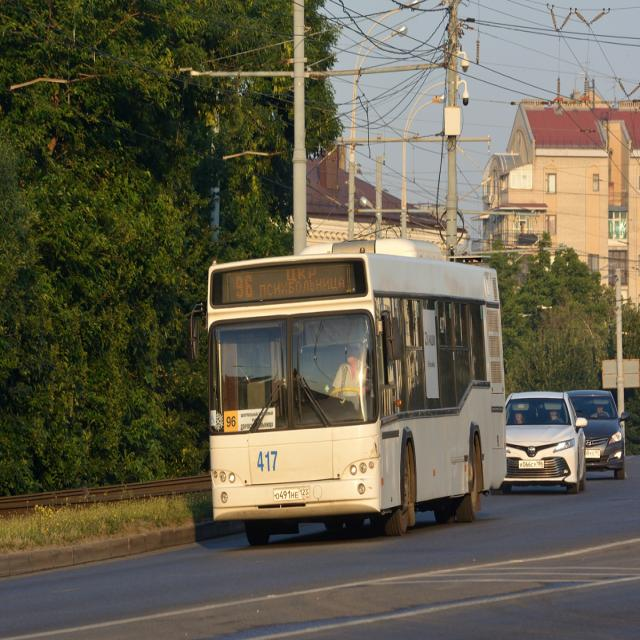number-of-bus: (233, 273, 256, 303), (225, 413, 239, 434)
